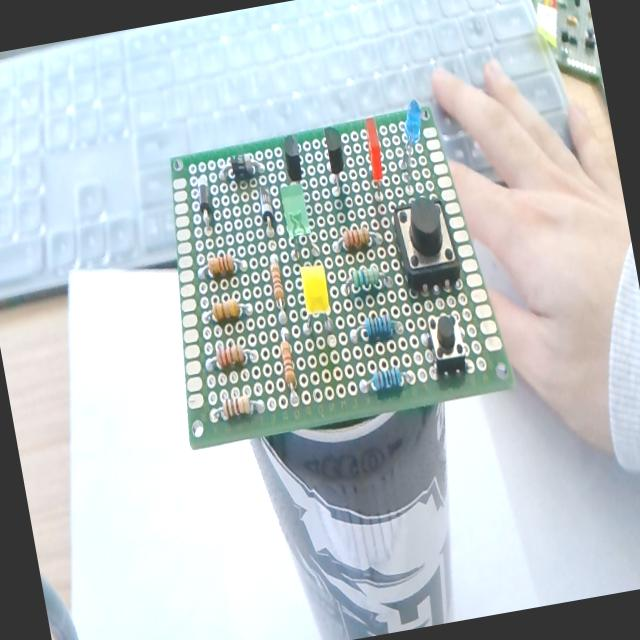diode: (218, 150, 264, 184), (192, 172, 216, 234), (254, 182, 278, 238)
led: (390, 96, 432, 182), (360, 116, 392, 221), (295, 260, 337, 338), (279, 182, 312, 240)
resistor: (340, 262, 392, 298), (350, 310, 404, 344), (356, 363, 414, 394), (210, 392, 264, 423), (206, 341, 256, 374), (196, 248, 245, 280), (199, 298, 251, 327), (330, 224, 373, 254), (278, 338, 297, 386), (268, 260, 286, 302)
switch: (387, 189, 464, 296), (424, 309, 469, 378)
transistor: (320, 124, 350, 196), (280, 133, 304, 182)
